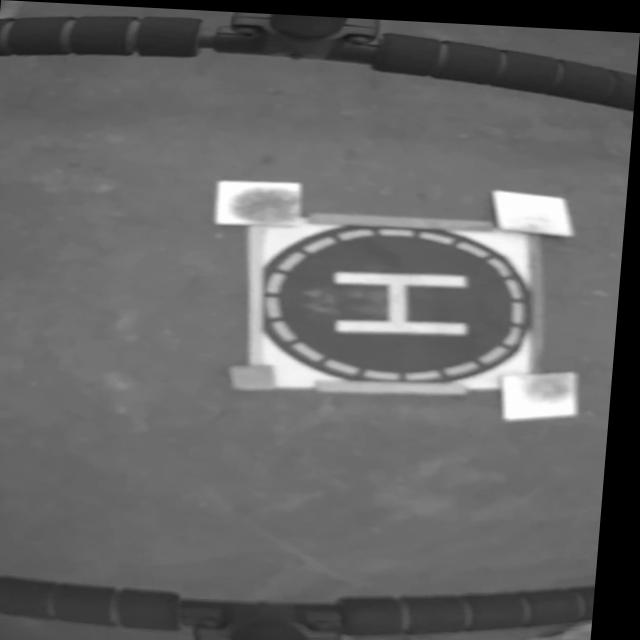Helipad: (337, 267, 473, 330)
